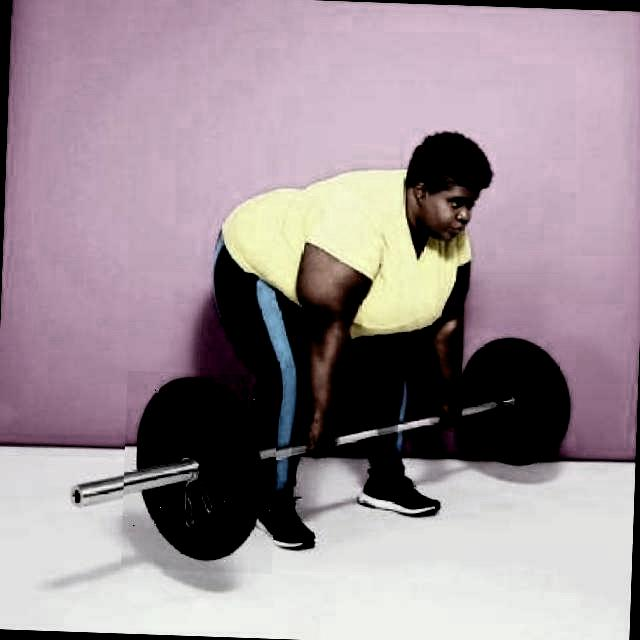barbell: (121, 372, 278, 577)
